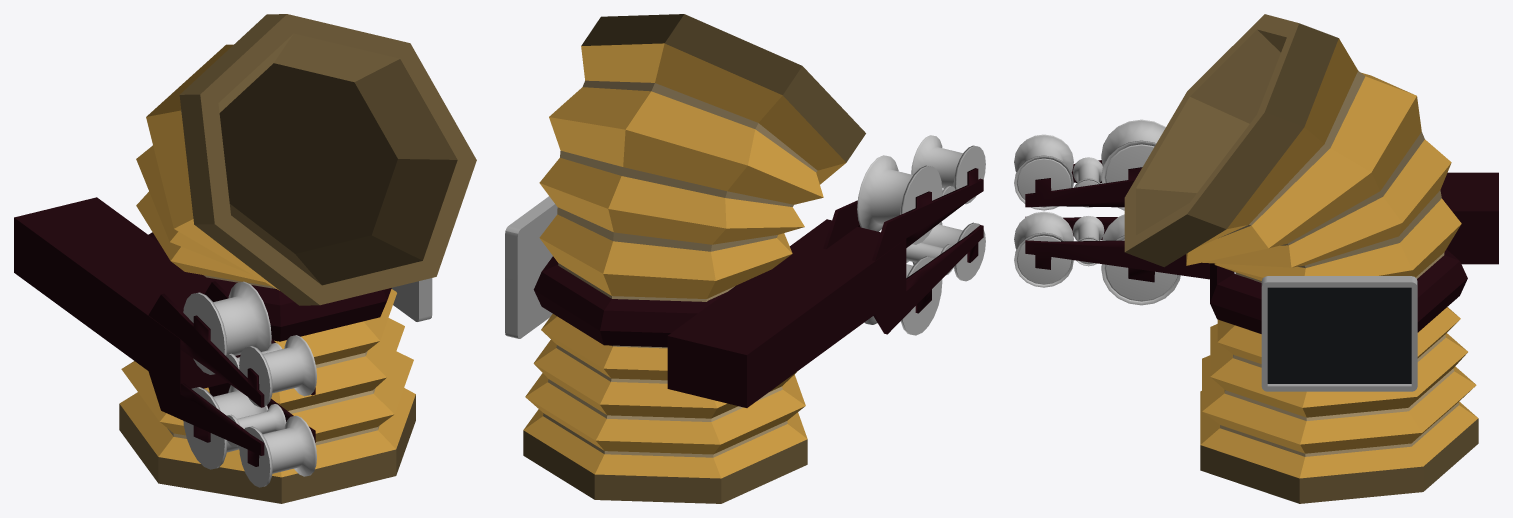
File: PlayerAnimation_DeathLoop.fbx
3 views of the same model, side by side, from view 1: azimuth 30°, elevation 25°; view 2: azimuth 150°, elevation 25°; view 3: azimuth 270°, elevation 25° (orthographic). The views are drawn at different scales.
Visible parts, largest first — view 1: Original; view 2: Original; view 3: Original.
Part boxes in pixels (bbox=[...]): Original: bbox=[14, 14, 476, 503]; Original: bbox=[505, 14, 985, 503]; Original: bbox=[1014, 14, 1498, 503].
Bounding box in the file's own units: 227 × 317 × 331.
